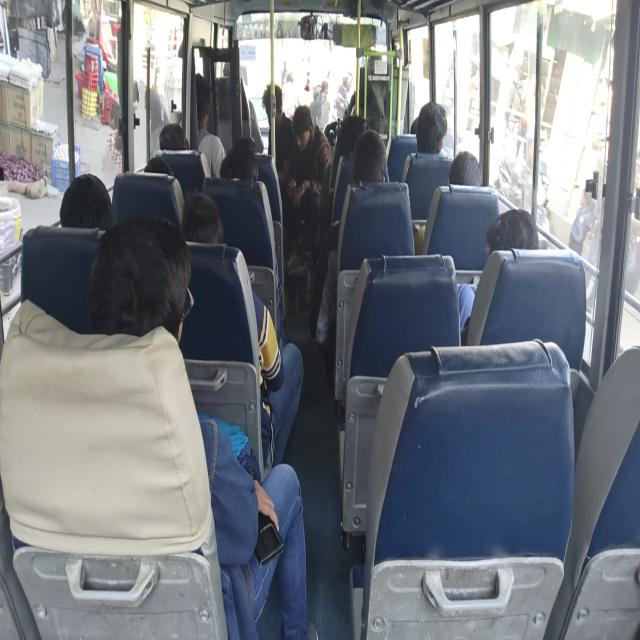person: (105, 252, 191, 370), (484, 212, 538, 257), (182, 209, 226, 259), (414, 112, 449, 160), (218, 156, 262, 193), (69, 180, 104, 225), (446, 154, 490, 188), (142, 150, 176, 189), (158, 124, 190, 161), (260, 87, 288, 128), (229, 133, 264, 165), (358, 48, 387, 86), (359, 147, 387, 185), (341, 121, 370, 153), (217, 42, 244, 74), (290, 116, 314, 151), (187, 88, 210, 124)
